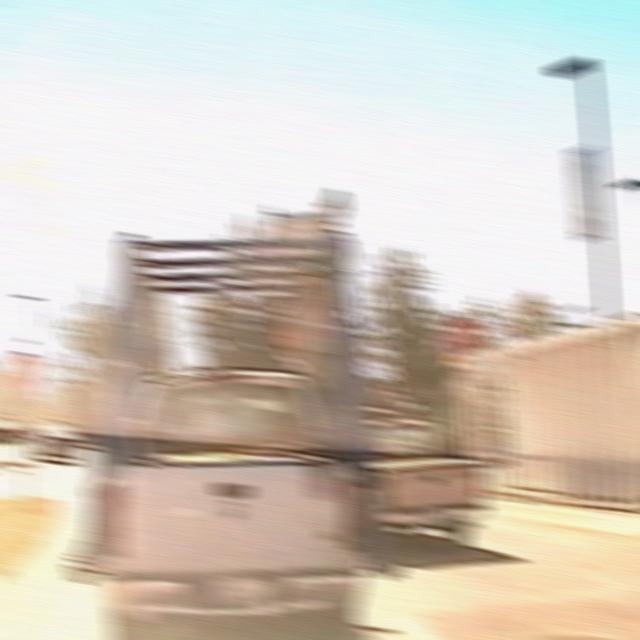stop: (444, 314, 480, 355), (7, 350, 43, 390)
